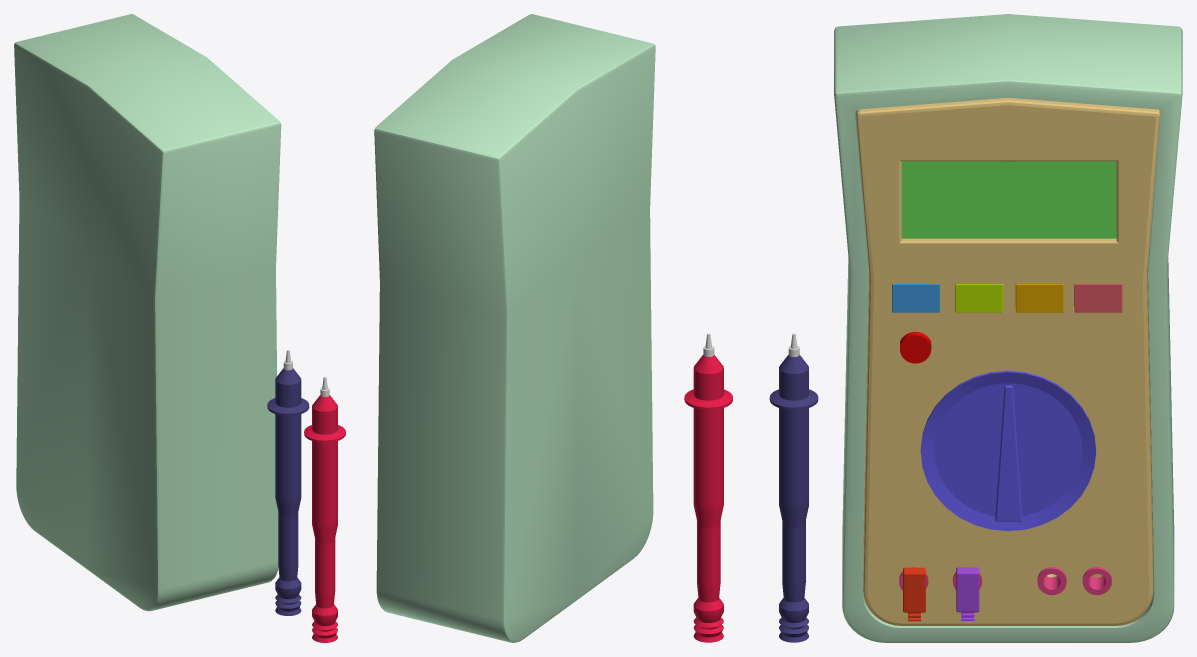
File: _ultimetr.fbx
3 renders of one model, left to right at view 1: azimuth 30°, elevation 25°; view 2: azimuth 150°, elevation 25°; view 3: azimuth 270°, elevation 25°, orthographic. The views are drawn at different scales.
Visible parts, largest first — view 1: Cylinder.055, Cylinder.057, Cylinder.054; view 2: Cylinder.055; view 3: Cube.069, Cylinder.055, Cylinder.060, Cube.068, Cylinder.054, Cylinder.057, Cylinder.059, Cube.067, Cube.066, Cube.065, Cube.058, Cube.070 (+2 smaller).
Boxes of the visible parts, x1=… form: Cylinder.055: x1=14, y1=14, x2=281, y2=611; Cylinder.057: x1=267, y1=368, x2=309, y2=615; Cylinder.054: x1=304, y1=395, x2=345, y2=642; Cylinder.055: x1=374, y1=14, x2=655, y2=642; Cube.069: x1=856, y1=97, x2=1160, y2=625; Cylinder.055: x1=834, y1=14, x2=1182, y2=642; Cylinder.060: x1=920, y1=370, x2=1096, y2=531; Cube.068: x1=901, y1=161, x2=1116, y2=238; Cylinder.054: x1=684, y1=355, x2=732, y2=642; Cylinder.057: x1=769, y1=355, x2=818, y2=642; Cylinder.059: x1=899, y1=567, x2=1111, y2=595; Cube.067: x1=955, y1=284, x2=1003, y2=312; Cube.066: x1=1015, y1=284, x2=1063, y2=312; Cube.065: x1=1074, y1=284, x2=1122, y2=312; Cube.058: x1=892, y1=284, x2=939, y2=312; Cube.070: x1=956, y1=567, x2=979, y2=620.
Size of the model in its own units: 8.11 by 27.16 by 21.45.
